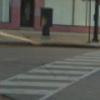crosswalks: (0, 48, 99, 97)
